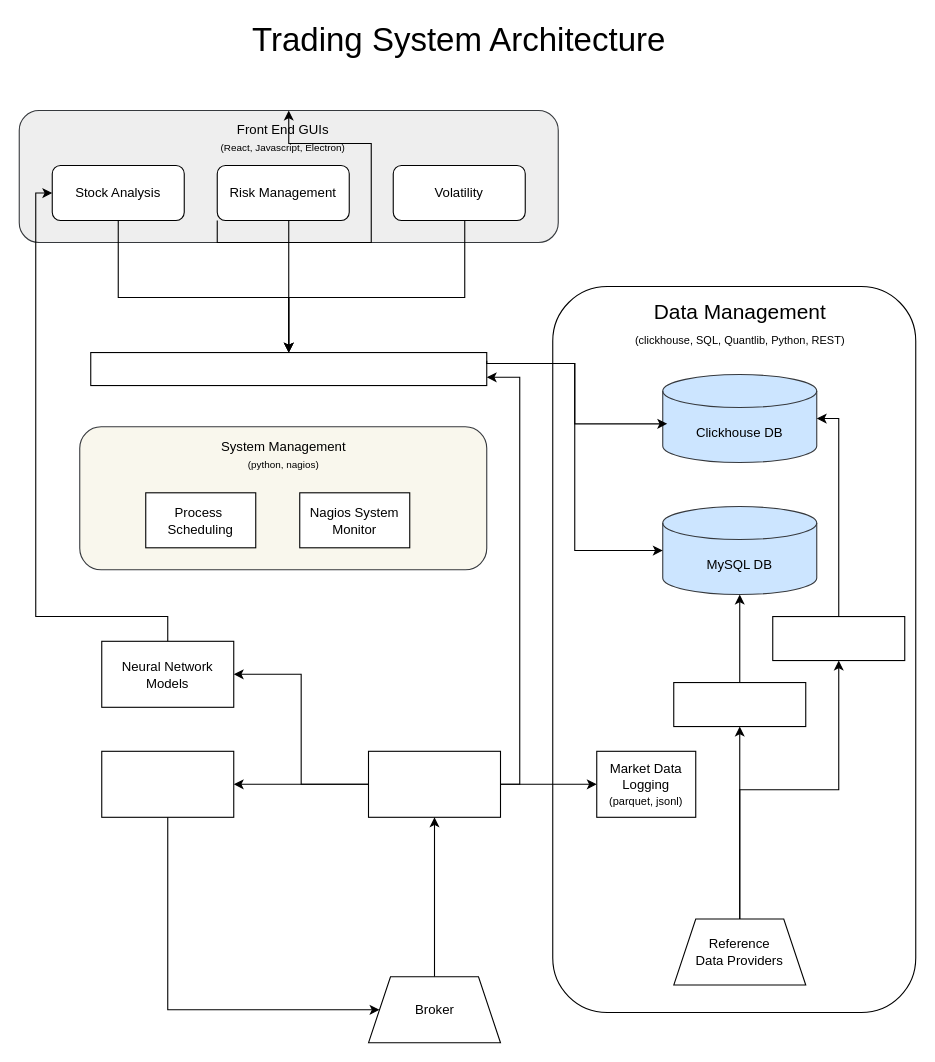
The diagram is 935 pixels wide and 1062 high, and some of its shapes have lost their labels. The centre of each missing label's shape, as x and y in pixels:
"Algorithmic Trading Engine" belongs at (167,783).
"Extract Transform Load" belongs at (739,704).
"Market Data Server (python,websockets)" belongs at (434,783).
"Options IV Solver (Tian/CRR)" belongs at (838,638).
"REST API / WebSockets" belongs at (288,368).
